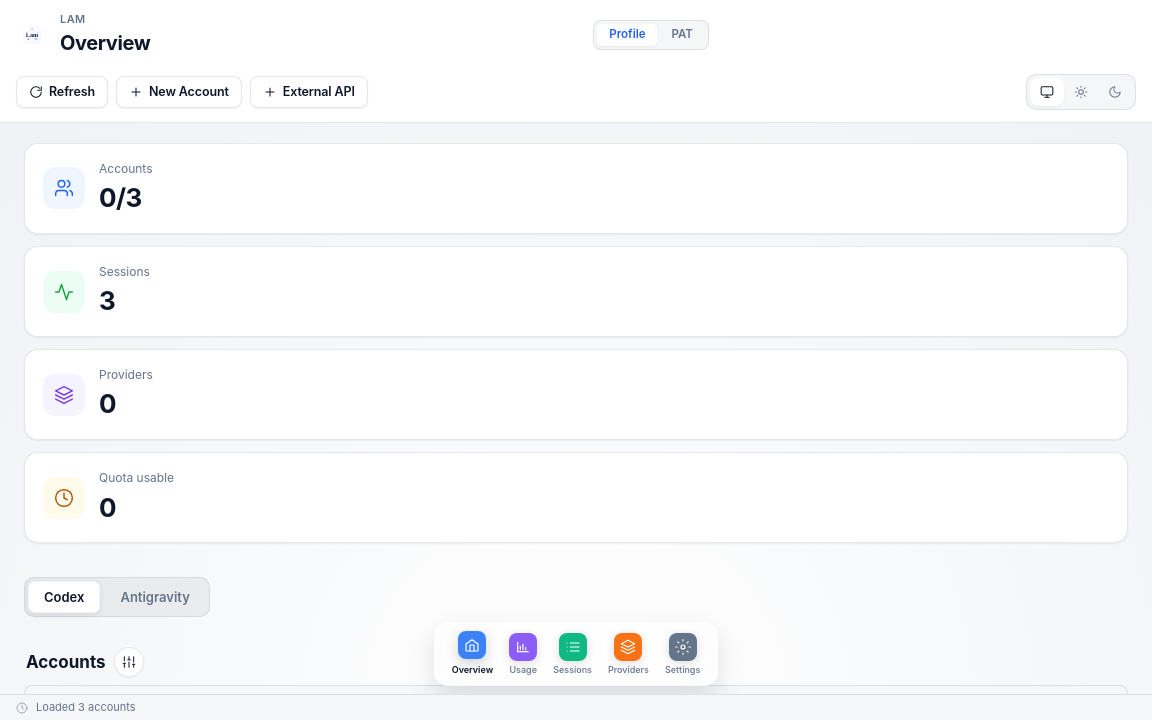
it: App handoff modal › opens the complete External API account flow from the global header
The image size is (1152, 720).
What coordinates should you click on to do the following:
click the button "External API"
I would click on:
 (309, 92)
Its box is [250, 76, 368, 108].
(page scrolled)
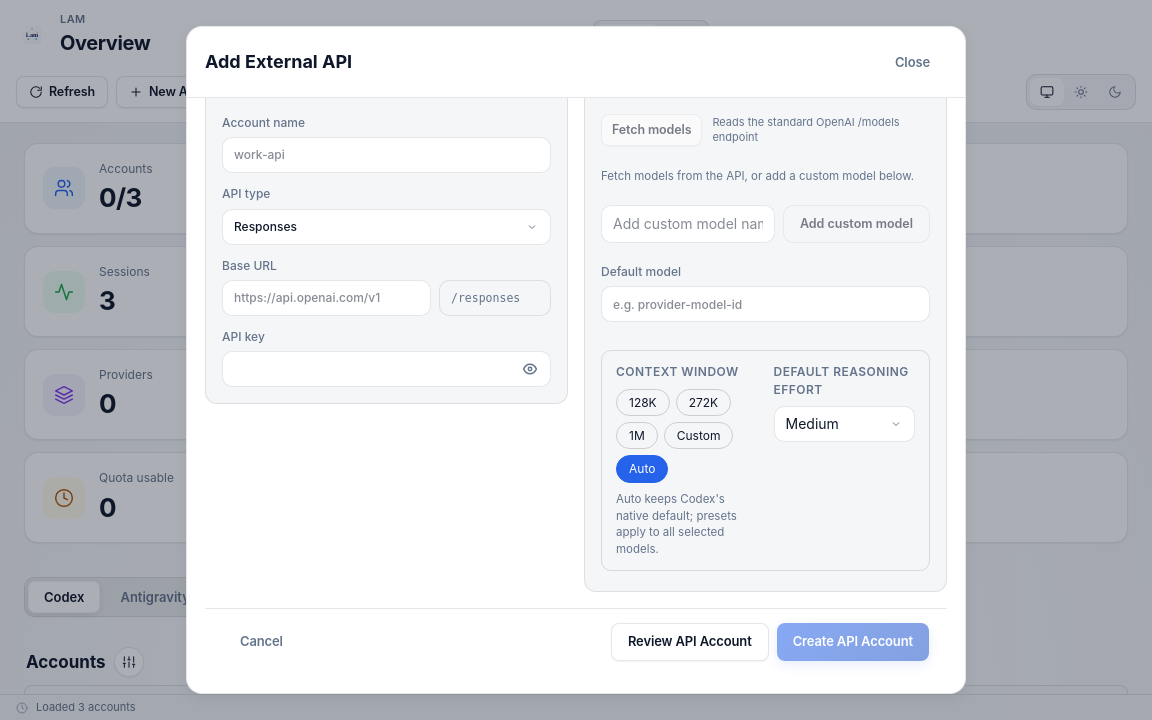
Expected: the heading "Add External API" is shown, [205, 49, 352, 75]
Expected: the button "Review API Account" is shown, [611, 622, 769, 660]
